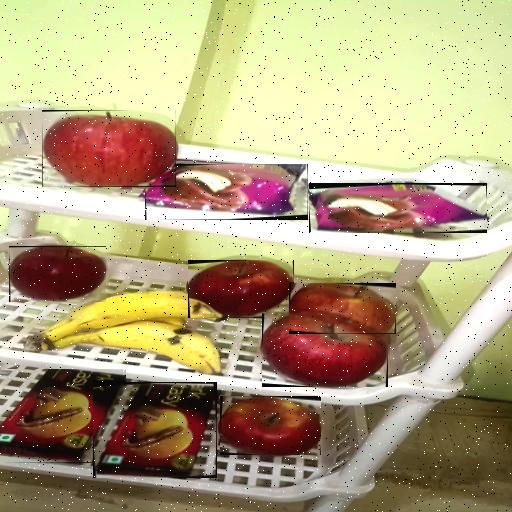Apple: (42, 110, 176, 187), (262, 314, 388, 387), (188, 260, 294, 318), (220, 396, 321, 455), (289, 283, 396, 334), (9, 246, 106, 302)
Choco Fills: (93, 382, 217, 478), (0, 370, 126, 464)
Choco Pie: (145, 164, 308, 220), (309, 183, 487, 233)
